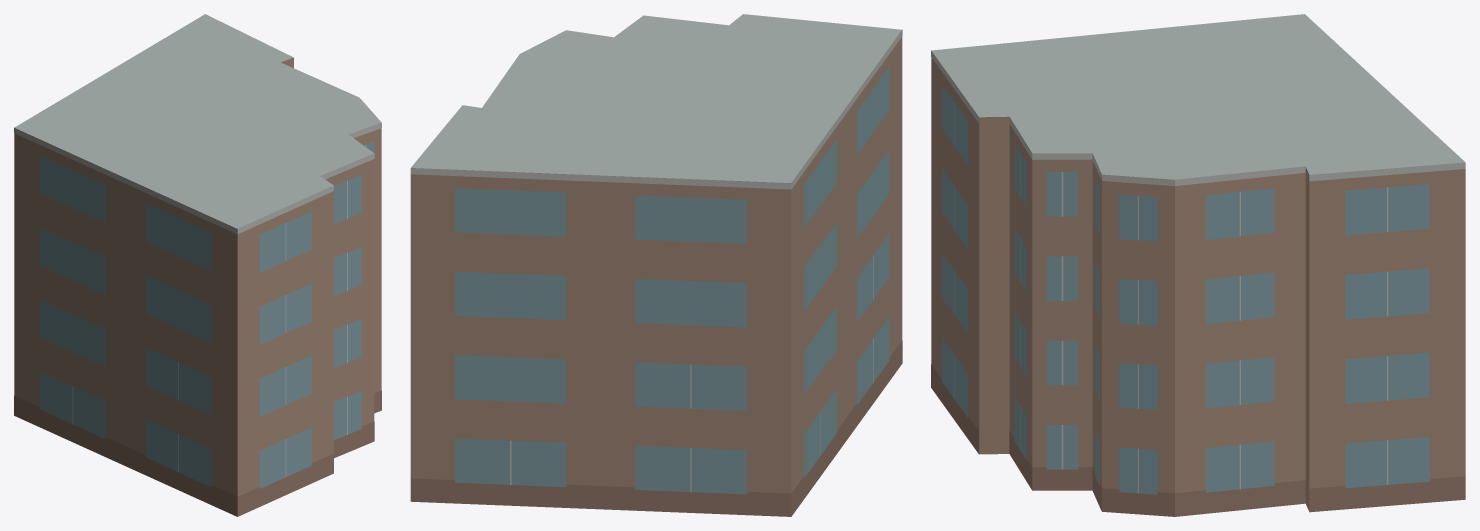
File: survey-upis-32509790.glb
The picture shows the model from 3 angles, left to right: view 1: azimuth 30°, elevation 25°; view 2: azimuth 150°, elevation 25°; view 3: azimuth 270°, elevation 25°; orthographic projection. The views are drawn at different scales.
Parts seen in each view (by area): view 1: survey-upis-32509790.tmp; view 2: survey-upis-32509790.tmp; view 3: survey-upis-32509790.tmp.
Part boxes in pixels (<box>): survey-upis-32509790.tmp: <box>14,14,381,516</box>; survey-upis-32509790.tmp: <box>410,14,902,516</box>; survey-upis-32509790.tmp: <box>931,14,1465,516</box>.
Size of the model in its own units: 13.47 by 12.77 by 18.36.
